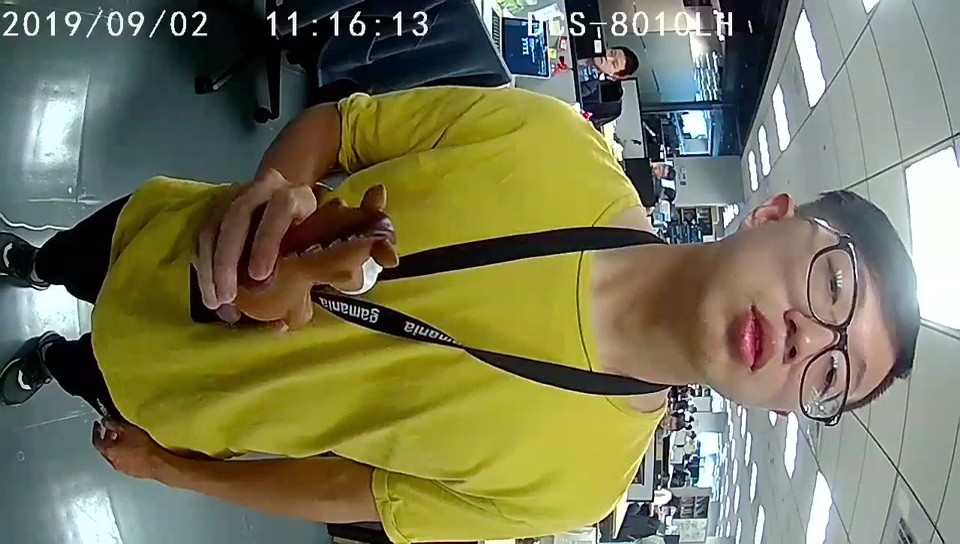horse: (288, 186, 397, 317)
